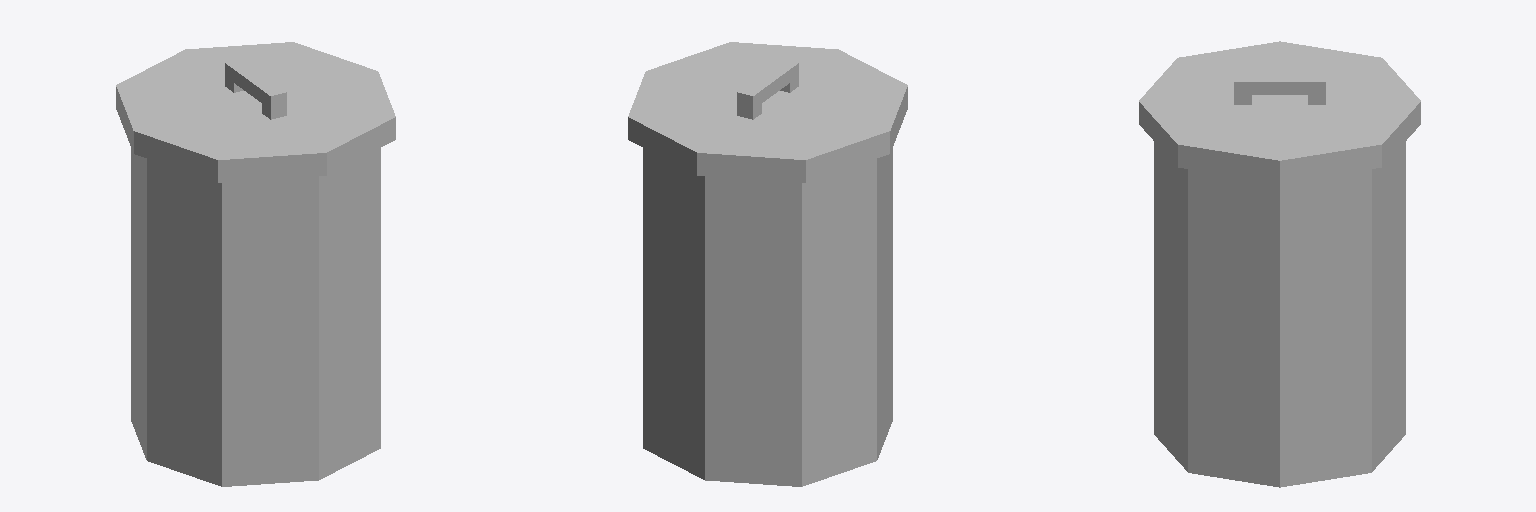
3 views of the same model, side by side, from view 1: azimuth 30°, elevation 25°; view 2: azimuth 150°, elevation 25°; view 3: azimuth 270°, elevation 25° (orthographic).
Parts seen in each view (by area): view 1: TRASH_CAN_Cube.037; view 2: TRASH_CAN_Cube.037; view 3: TRASH_CAN_Cube.037.
Part boxes in pixels (x1,y1,x2,y2): TRASH_CAN_Cube.037: (116,42,395,486); TRASH_CAN_Cube.037: (628,42,907,486); TRASH_CAN_Cube.037: (1139,41,1420,487).
Bounding box in the file's own units: 2.45 × 3.42 × 2.45.